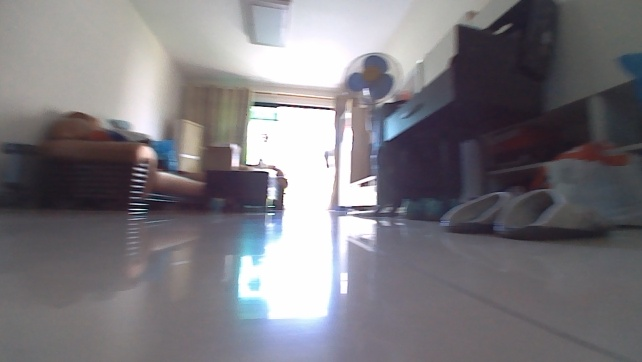shoe: (436, 183, 615, 241)
sofa: (31, 108, 206, 218)
